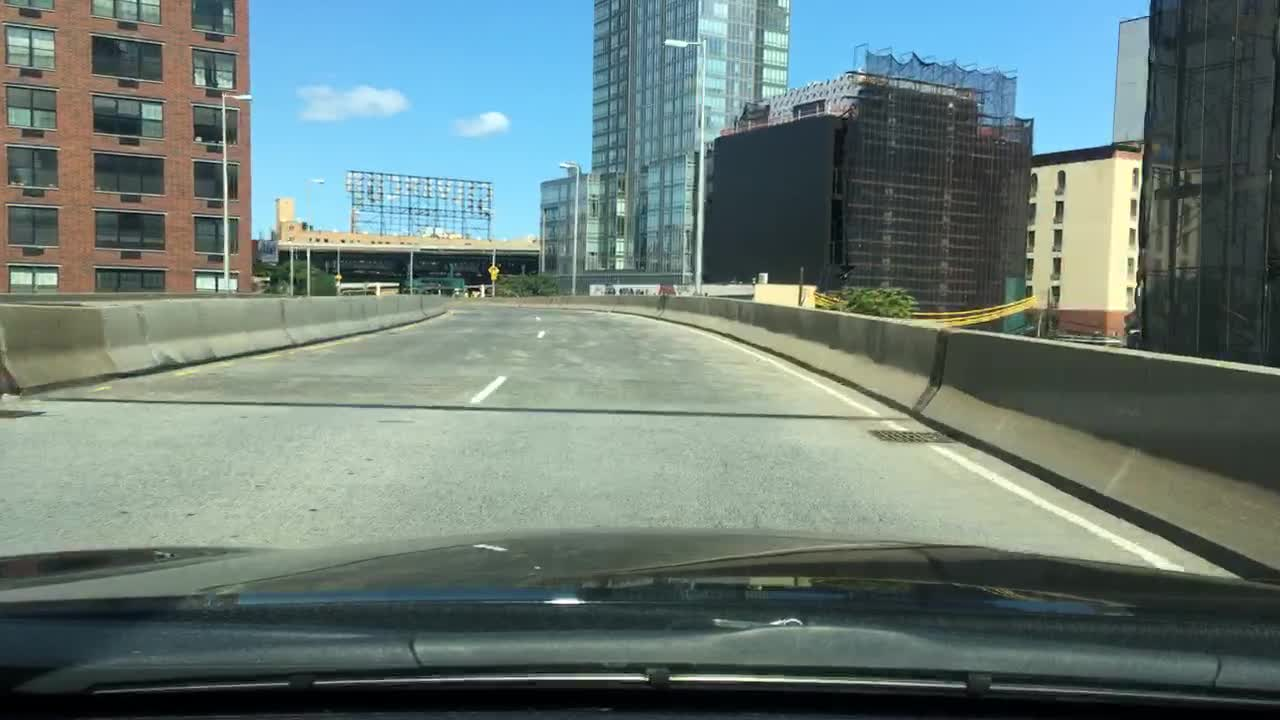bus: (336, 279, 402, 299)
traffic sign: (486, 262, 500, 272), (488, 271, 499, 282), (332, 271, 341, 280)
truck: (409, 277, 466, 298)
